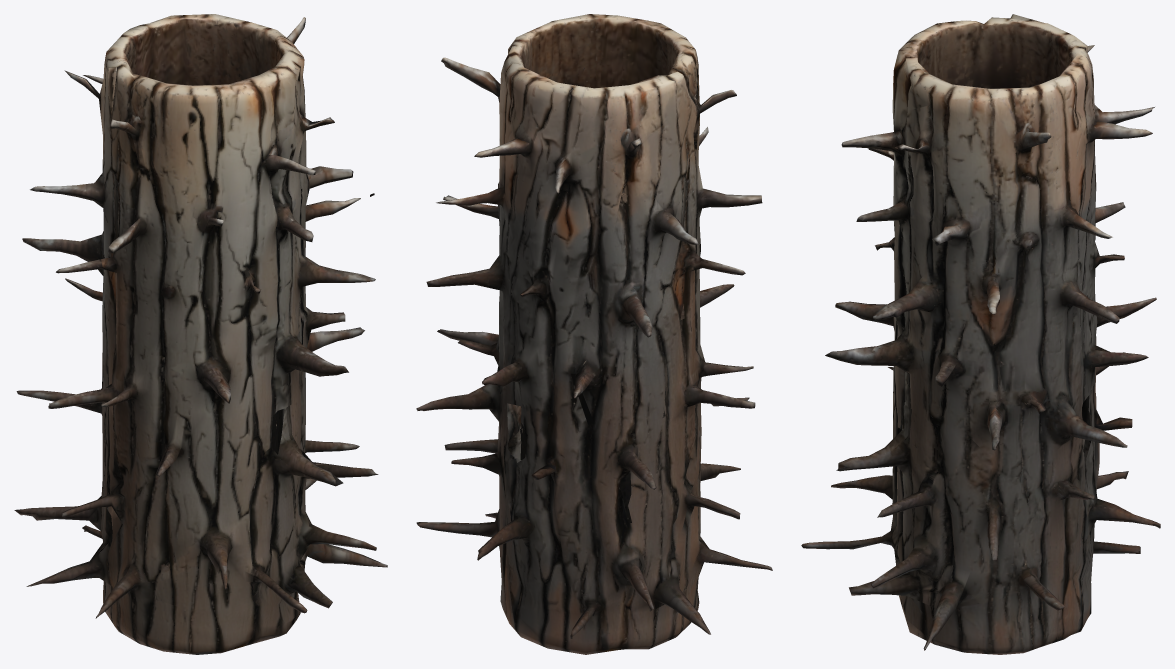
Rendered from a_log_with_metal_thor_1113194410_texture.fbx.
3 views of the same model, side by side, from view 1: azimuth 30°, elevation 25°; view 2: azimuth 150°, elevation 25°; view 3: azimuth 270°, elevation 25° (orthographic).
Visible parts, largest first — view 1: Mesh0; view 2: Mesh0; view 3: Mesh0.
Part boxes in pixels (<box>): Mesh0: <box>14,14,387,654</box>; Mesh0: <box>416,14,772,654</box>; Mesh0: <box>801,14,1160,654</box>.
Size of the model in its own units: 115 by 191 by 110.
1 material, 1 textured.
